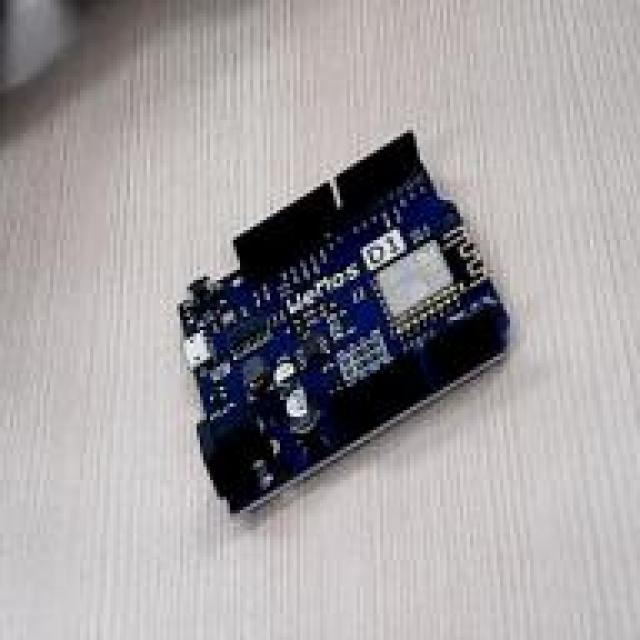Wemos: (178, 134, 508, 511)
